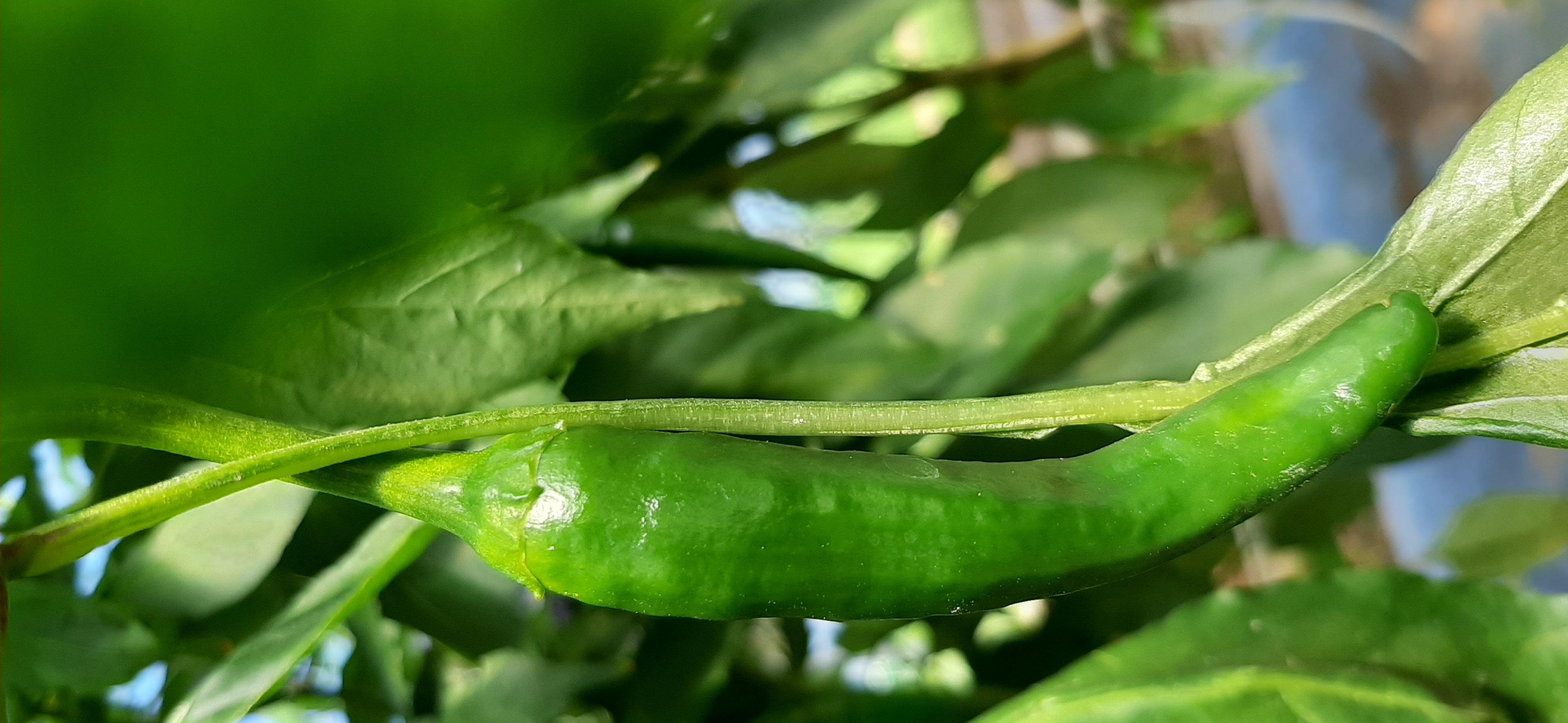Buah Cabai Sehat: (449, 286, 1449, 628)
